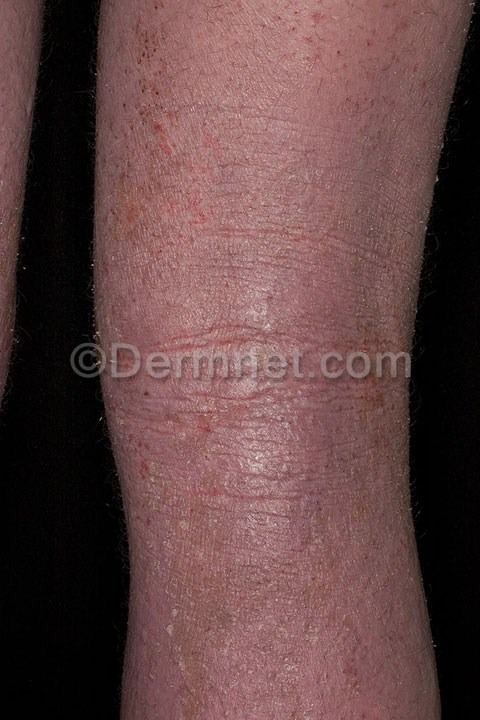Eczema: (124, 4, 437, 720)
